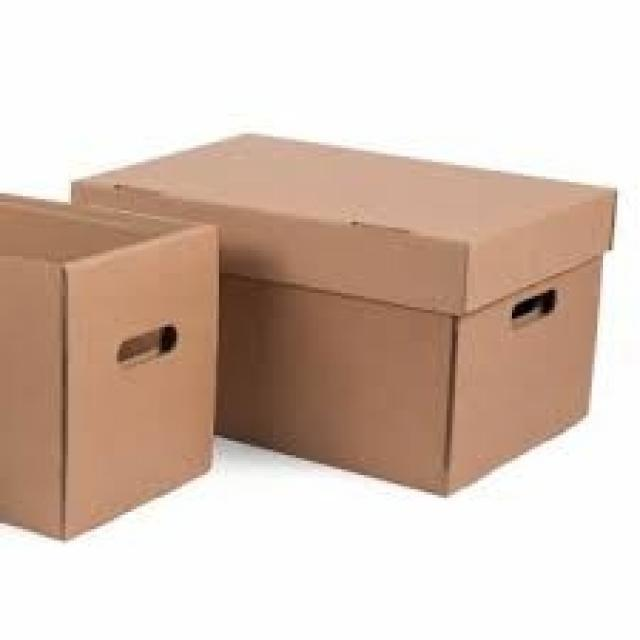cardboard paper: (71, 134, 614, 491), (0, 194, 217, 536)
